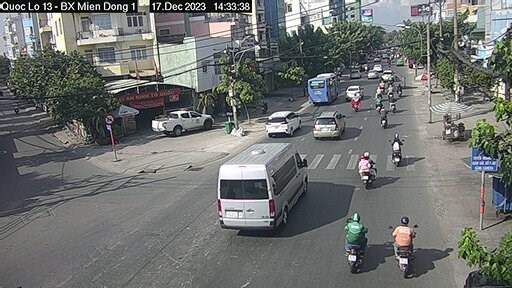bus: (307, 73, 338, 106)
car: (218, 141, 307, 231), (151, 109, 212, 136), (313, 109, 345, 143), (263, 112, 304, 137), (346, 86, 364, 101), (347, 68, 362, 78), (367, 68, 378, 81)
motorbike: (337, 213, 364, 272), (392, 218, 413, 273), (361, 158, 382, 191), (383, 136, 405, 160)
